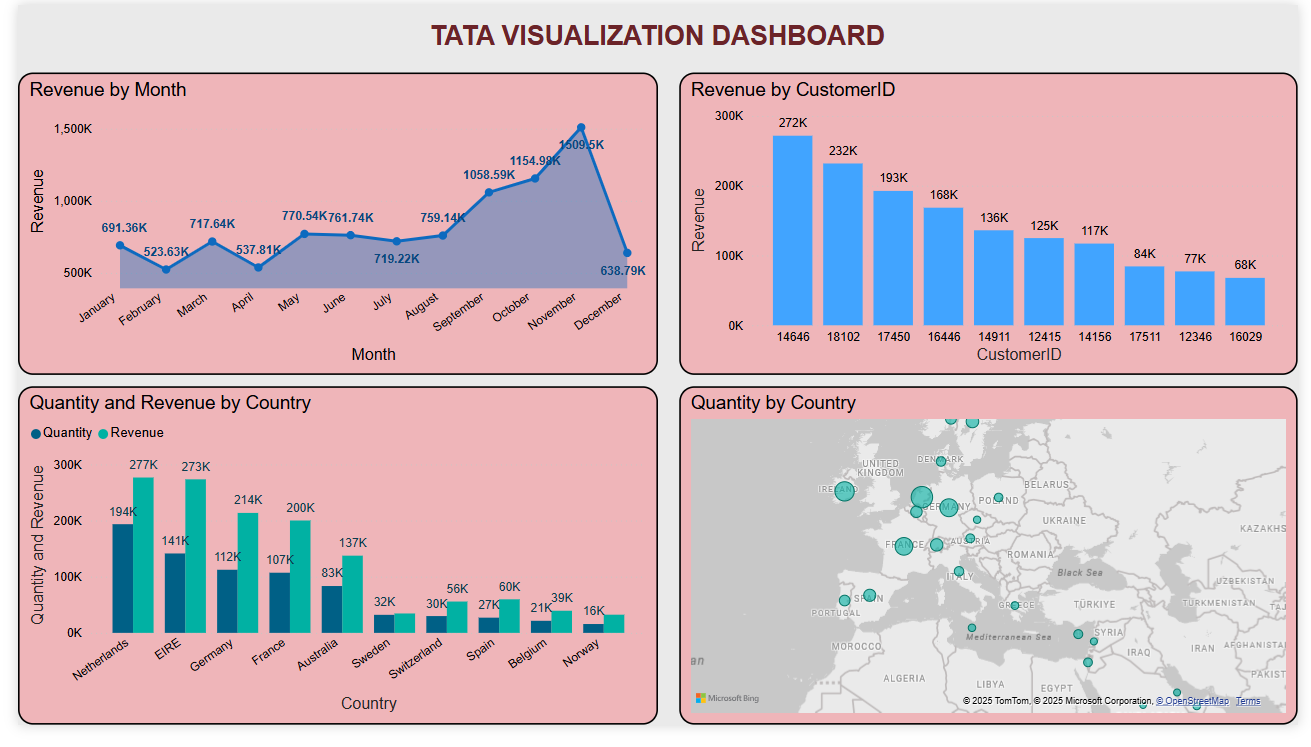

Layout of this report page (visuals, bound fields, positions):
{"tool":"powerbi","page":{"name":"Dashboard","canvas":[1280,720],"ordinal":4},"visuals":[{"type":"lineChart","fields":{"Y":["Sum(Online Retail.Revenue)"],"Category":["Online Retail.InvoiceDate.Variation.Date Hierarchy.Month"]},"box":[0,67.5,640,302.5],"z":0},{"type":"clusteredColumnChart","fields":{"Y":["Sum(Online Retail.Quantity)","Sum(Online Retail.Revenue)"],"Category":["Online Retail.Country"]},"box":[0,381.2,640,338.8],"z":1},{"type":"clusteredColumnChart","fields":{"Category":["Online Retail.CustomerID"],"Y":["Sum(Online Retail.Revenue)"]},"box":[661.2,67.5,618.8,302.5],"z":2},{"type":"map","fields":{"Category":["Online Retail.Country"],"Size":["Sum(Online Retail.Quantity)"]},"box":[661.2,381.2,618.8,338.8],"z":3},{"type":"textbox","box":[8.8,11.2,1261.2,43.8],"z":4}]}

Visuals, with their boxes in screenshot pixels (x1, y1, x2, y2), scaled from the page's 1280x720 canvas onto the 1311x747 screenshot:
lineChart - Sum(Online Retail.Revenue) x Online Retail.InvoiceDate.Variation.Date Hierarchy.Month: l=0, t=70, r=656, b=384
clusteredColumnChart - Sum(Online Retail.Quantity) x Sum(Online Retail.Revenue): l=0, t=395, r=656, b=746
clusteredColumnChart - Online Retail.CustomerID x Sum(Online Retail.Revenue): l=677, t=70, r=1310, b=384
map - Online Retail.Country x Sum(Online Retail.Quantity): l=677, t=395, r=1310, b=746
textbox: l=9, t=12, r=1301, b=57
